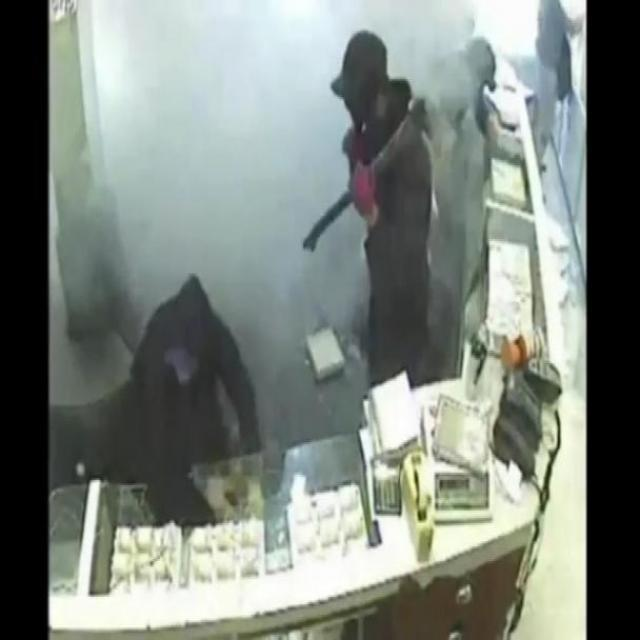Smoke: (41, 0, 535, 566)
